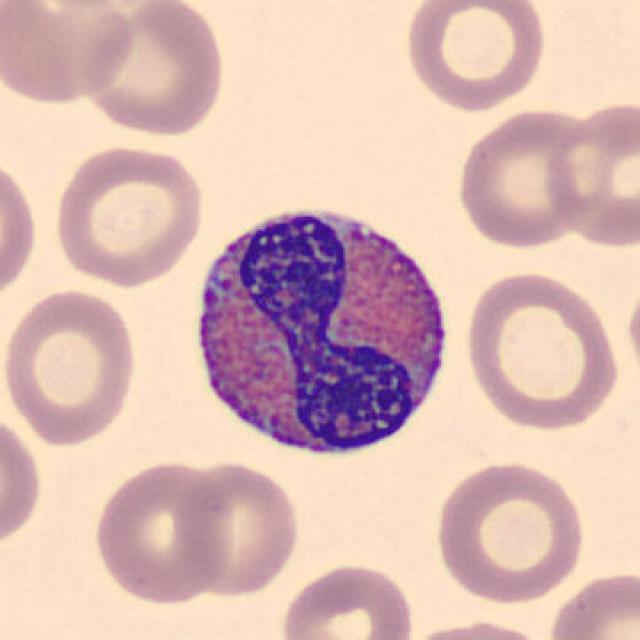Eosinophil: (180, 188, 462, 472)
RBC: (459, 266, 622, 434), (431, 456, 588, 606), (0, 284, 142, 449), (50, 141, 208, 289), (89, 457, 235, 608), (78, 0, 229, 139), (453, 104, 594, 250), (172, 457, 304, 601), (400, 0, 551, 115), (540, 97, 640, 252), (0, 0, 139, 108), (276, 559, 420, 640), (542, 566, 640, 640), (0, 409, 46, 554), (0, 152, 41, 306), (398, 617, 555, 640), (624, 268, 640, 395)
